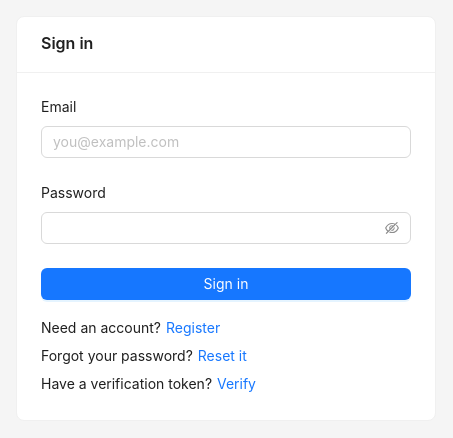
AuthPage › switches modes in place
The width and height of the screenshot is (453, 438).
Click the button "Register" at [193, 328], box [165,316,221,340]
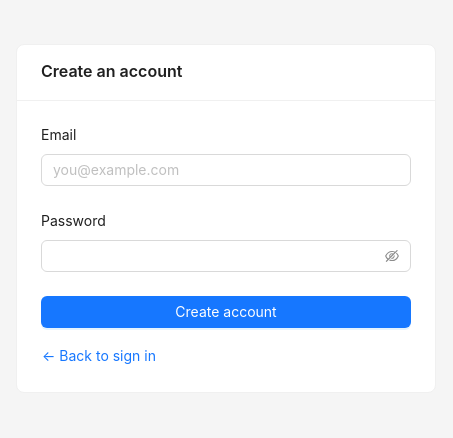
Expected: the button "Create account" is shown, [41,296,411,328]
Click the button "← Back to sign in" at [99, 356], box [41,344,157,368]
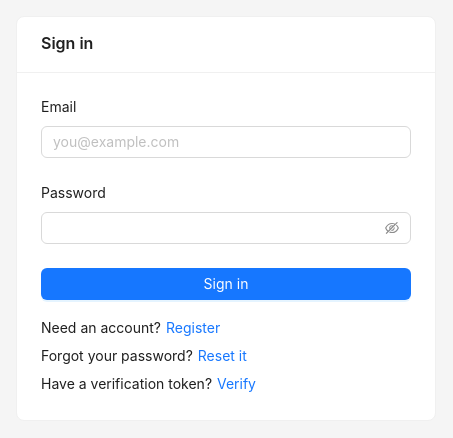
Click the button "Verify" at [236, 384], box [216,372,257,396]
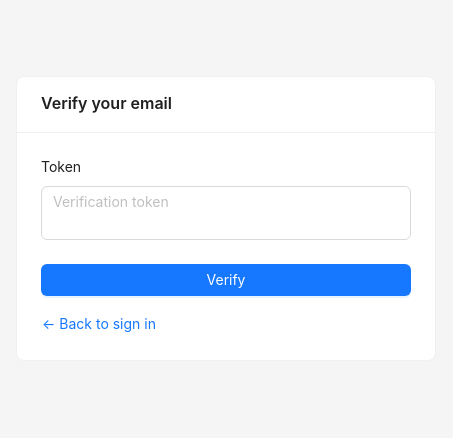
Expected: the text box labelled "Token" is shown, [41,186,411,240]
